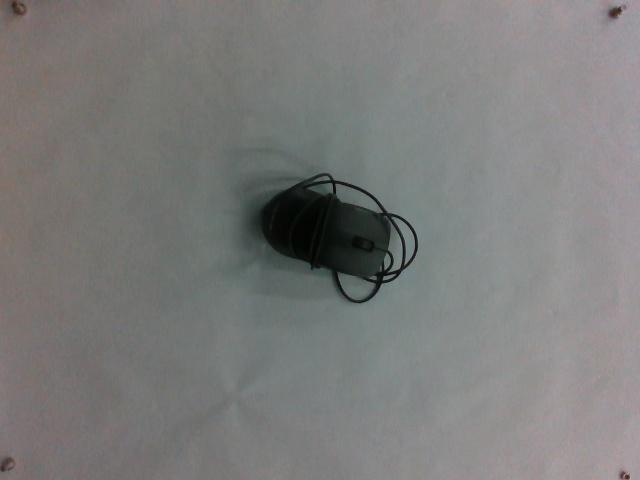mouse: (256, 168, 421, 305)
